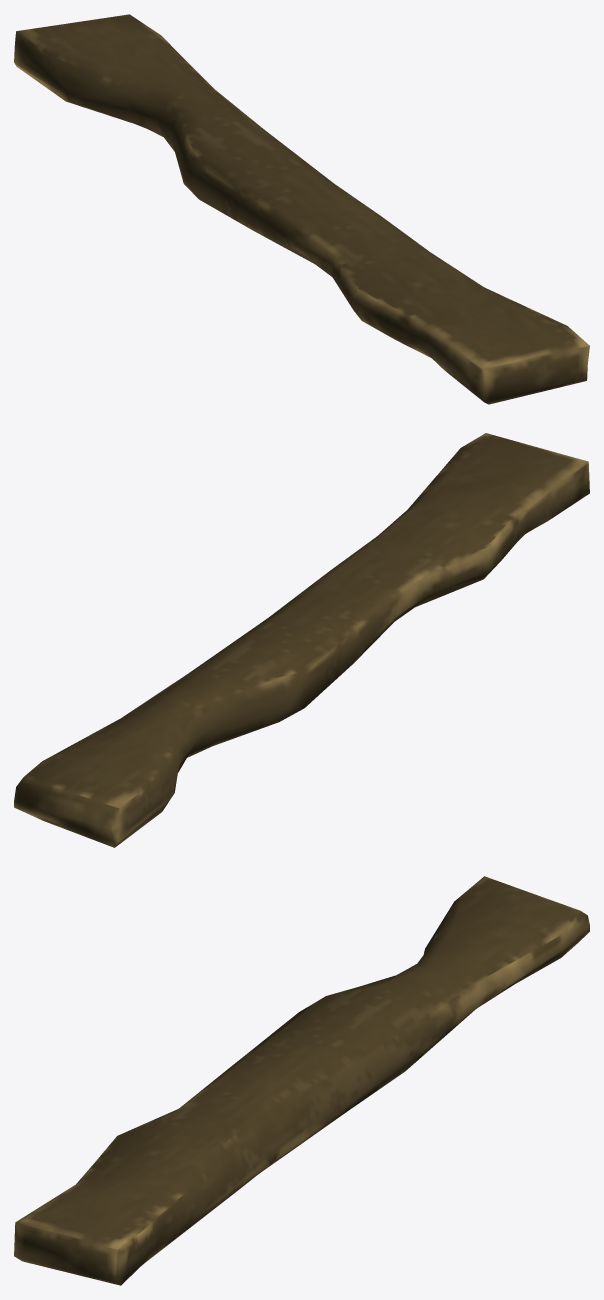
File: board_05.fbx
The picture shows the model from 3 angles, top to bottom: view 1: azimuth 30°, elevation 25°; view 2: azimuth 150°, elevation 25°; view 3: azimuth 330°, elevation 25°; orthographic projection.
Parts seen in each view (by area): view 1: Cylinder.008; view 2: Cylinder.008; view 3: Cylinder.008.
Part boxes in pixels (bbox=[...]): Cylinder.008: bbox=[14, 14, 589, 404]; Cylinder.008: bbox=[14, 433, 589, 847]; Cylinder.008: bbox=[14, 876, 589, 1285].
Size of the model in its own units: 88.9 by 36.6 by 587.
